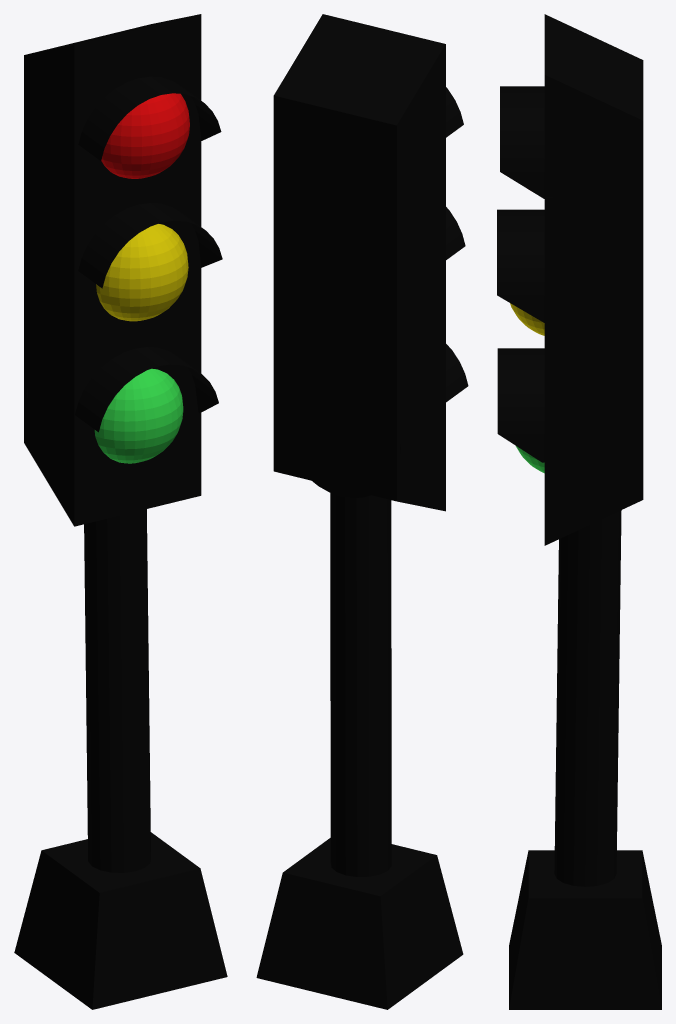
Rendered from semaforo.obj.
The picture shows the model from 3 angles, left to right: view 1: azimuth 30°, elevation 25°; view 2: azimuth 150°, elevation 25°; view 3: azimuth 270°, elevation 25°; orthographic projection. The views are drawn at different scales.
Visible parts, largest first — view 1: Semaforo; view 2: Semaforo; view 3: Semaforo.
Boxes of the visible parts, x1,y1,x2,y2 form: Semaforo: [14, 14, 227, 1009]; Semaforo: [256, 14, 468, 1009]; Semaforo: [497, 14, 661, 1009].
Bounding box in the file's own units: 0.9884 × 6.62 × 1.06.
